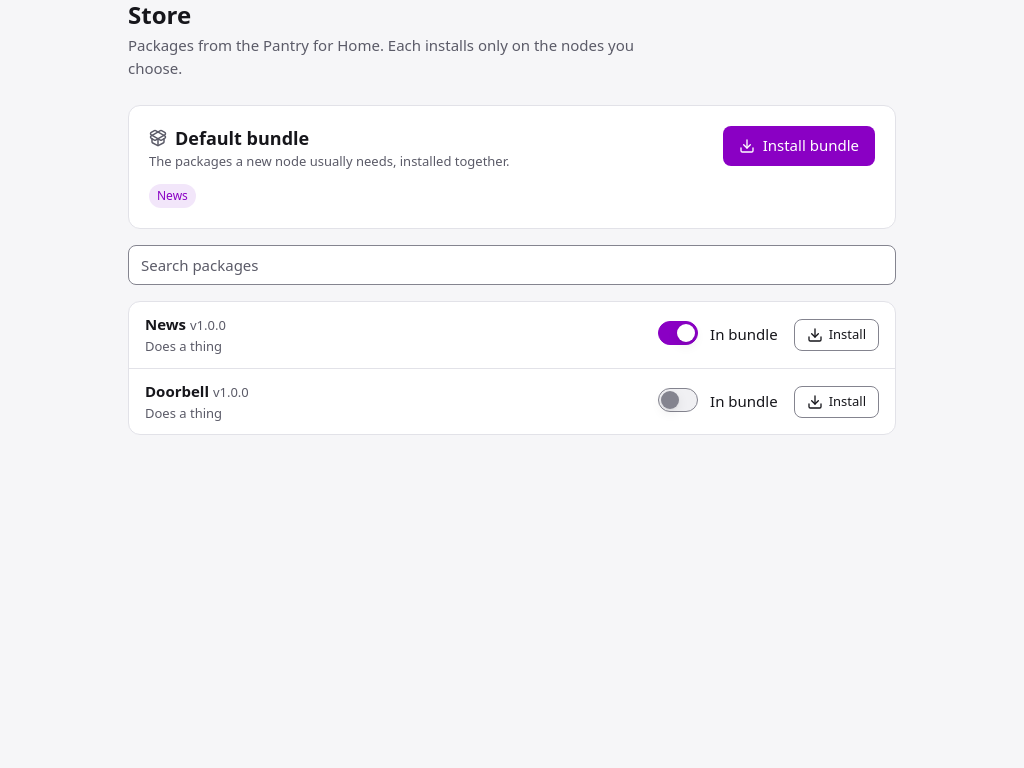
Test case: StorePage › installs a package on the chosen nodes, leaving out what cannot run it
Click the button with aria-label "Install Doorbell". click: (836, 402)
box: [794,386,879,418]
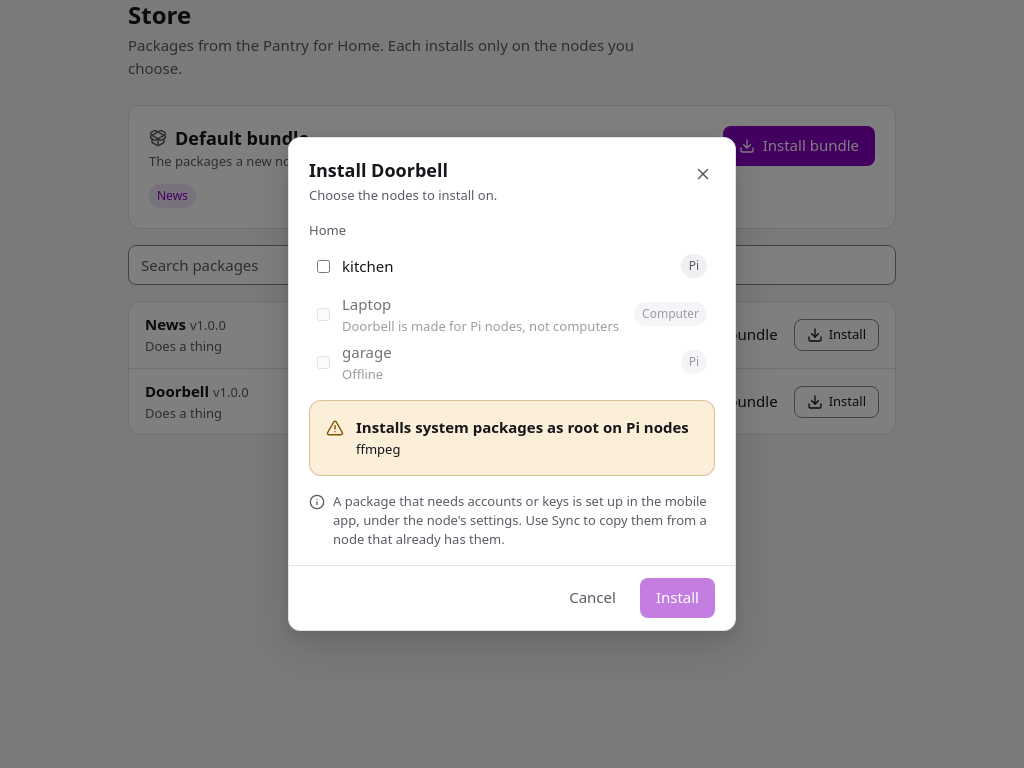
Result: the checkbox labelled "Laptop Doorbell is made for Pi nodes, not computers Computer" is disabled at [317,308,330,321]
Result: the text "Doorbell is made for Pi nodes, not computers" is shown at [342,316,622,335]
Result: the checkbox labelled "garage Offline Pi" is disabled at [317,356,330,369]
Click the checkbox labelled "kitchen Pi". click: (324, 266)
box: [317,260,330,273]
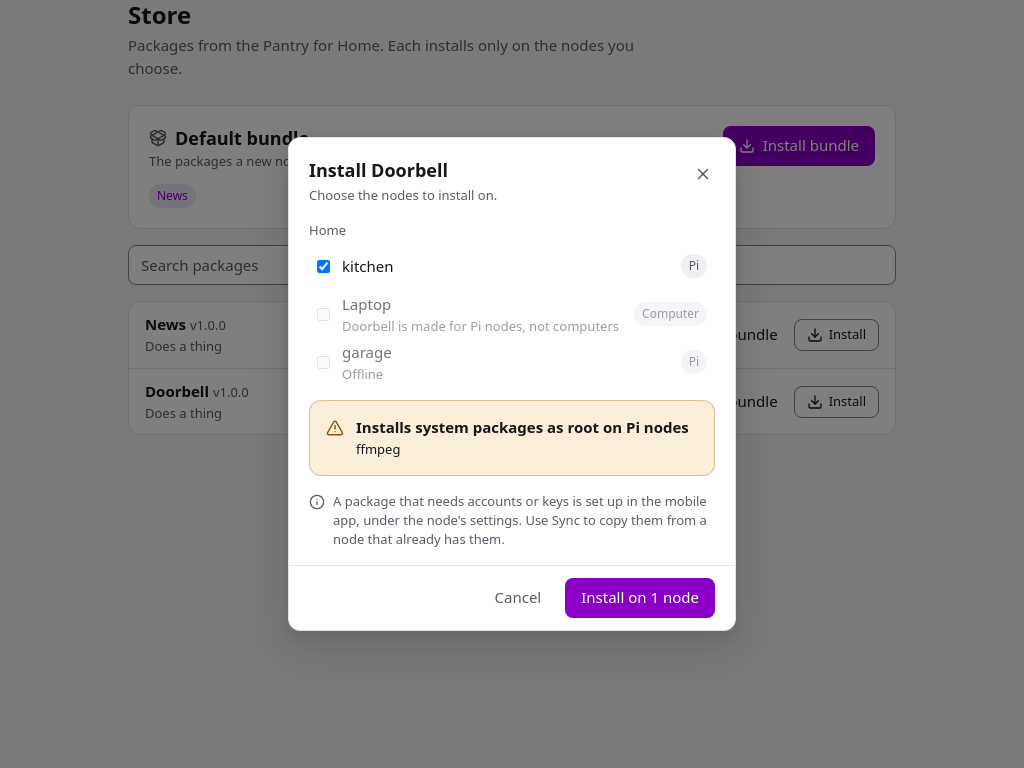
Click the button "Install on 1 node". click: (640, 598)
box: [565,578,715,618]
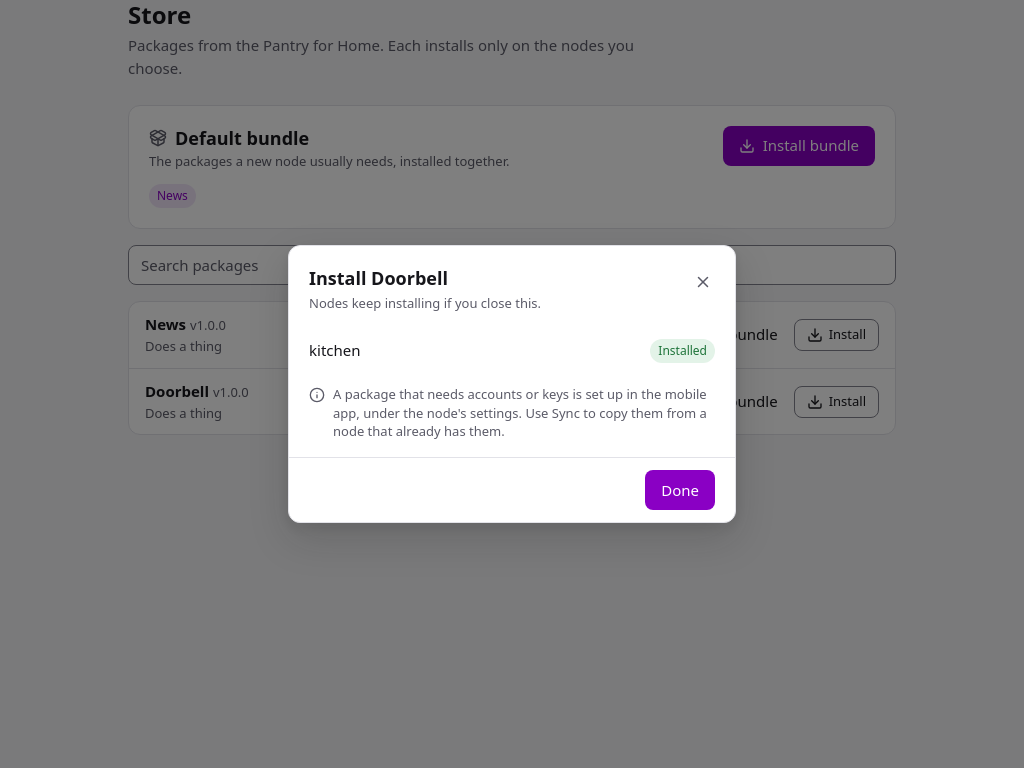
Result: the list item with test id "install-job" reads "kitchen Installed" at [309,339,715,363]
